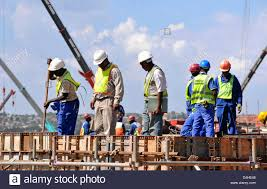helmet: (47, 58, 68, 73), (93, 50, 108, 65), (135, 52, 152, 64), (221, 60, 231, 72), (191, 63, 200, 73), (201, 60, 209, 71)
vest: (143, 71, 169, 98), (95, 69, 119, 98), (193, 74, 213, 107), (53, 75, 78, 100), (217, 78, 239, 103)
